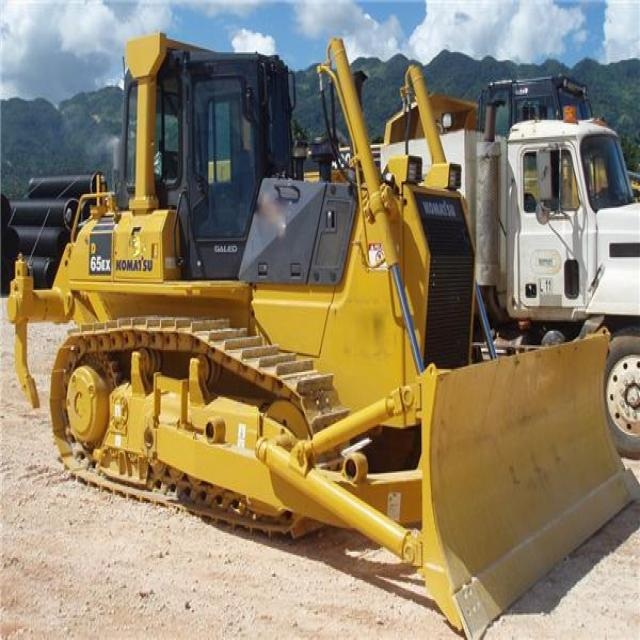Bulldozer: (17, 20, 639, 637)
